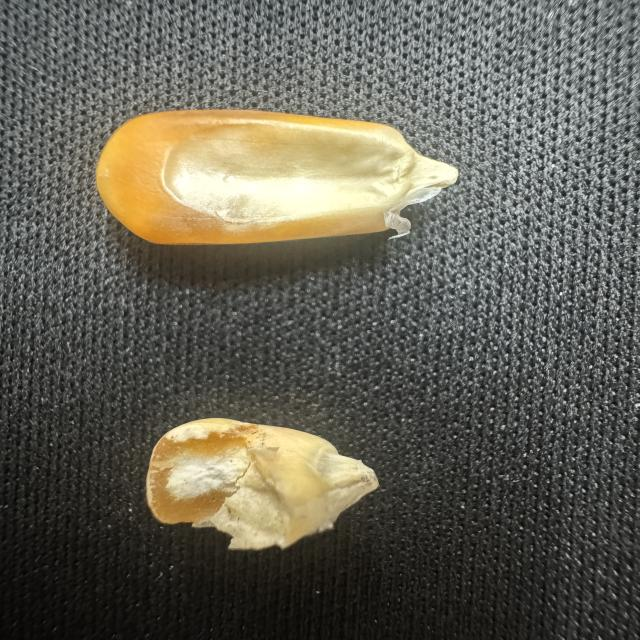Bad-Seed: (140, 415, 380, 564)
Good-Seed: (81, 100, 460, 256)
